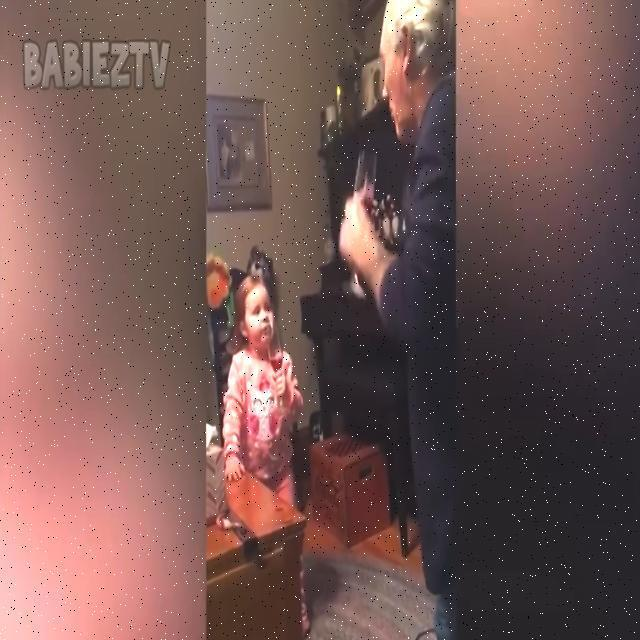child: (223, 280, 305, 520)
